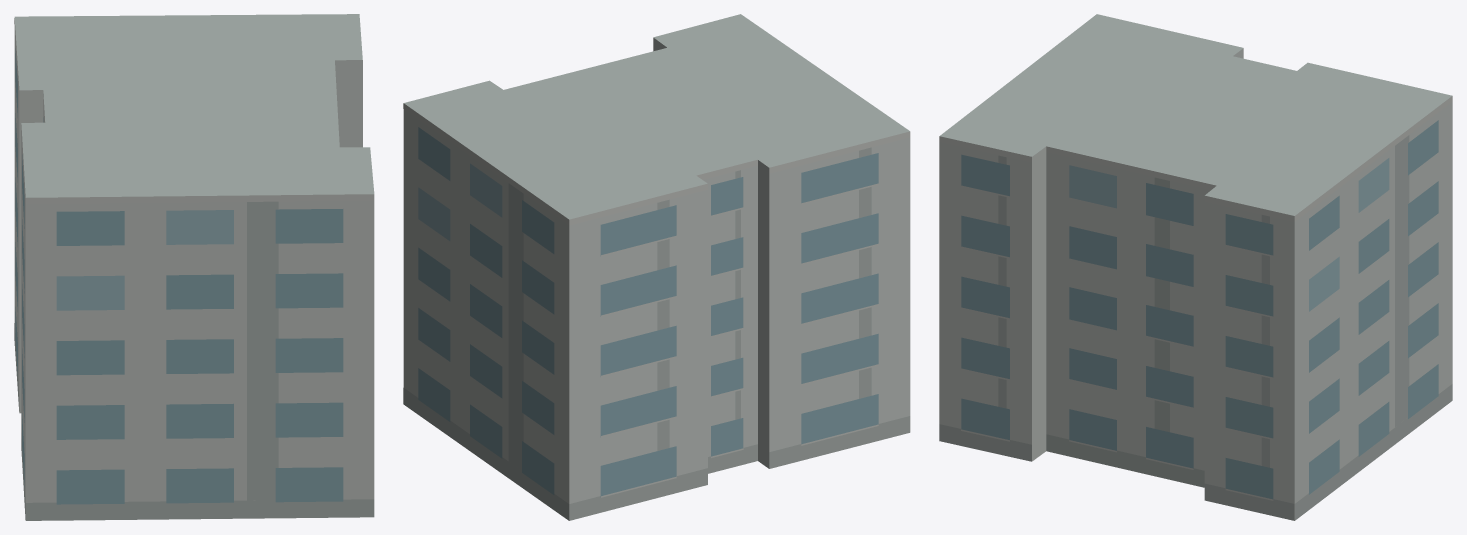
File: survey-upis-32676030.glb
3 renders of one model, left to right at view 1: azimuth 30°, elevation 25°; view 2: azimuth 150°, elevation 25°; view 3: azimuth 270°, elevation 25°, orthographic. The views are drawn at different scales.
Parts seen in each view (by area): view 1: survey-upis-32676030.tmp; view 2: survey-upis-32676030.tmp; view 3: survey-upis-32676030.tmp.
Part boxes in pixels (left/top/right/bottom): survey-upis-32676030.tmp: left=14, top=14, right=374, bottom=520; survey-upis-32676030.tmp: left=403, top=14, right=910, bottom=520; survey-upis-32676030.tmp: left=939, top=14, right=1452, bottom=520.
Bounding box in the file's own units: 17.2 × 12.1 × 18.47.
